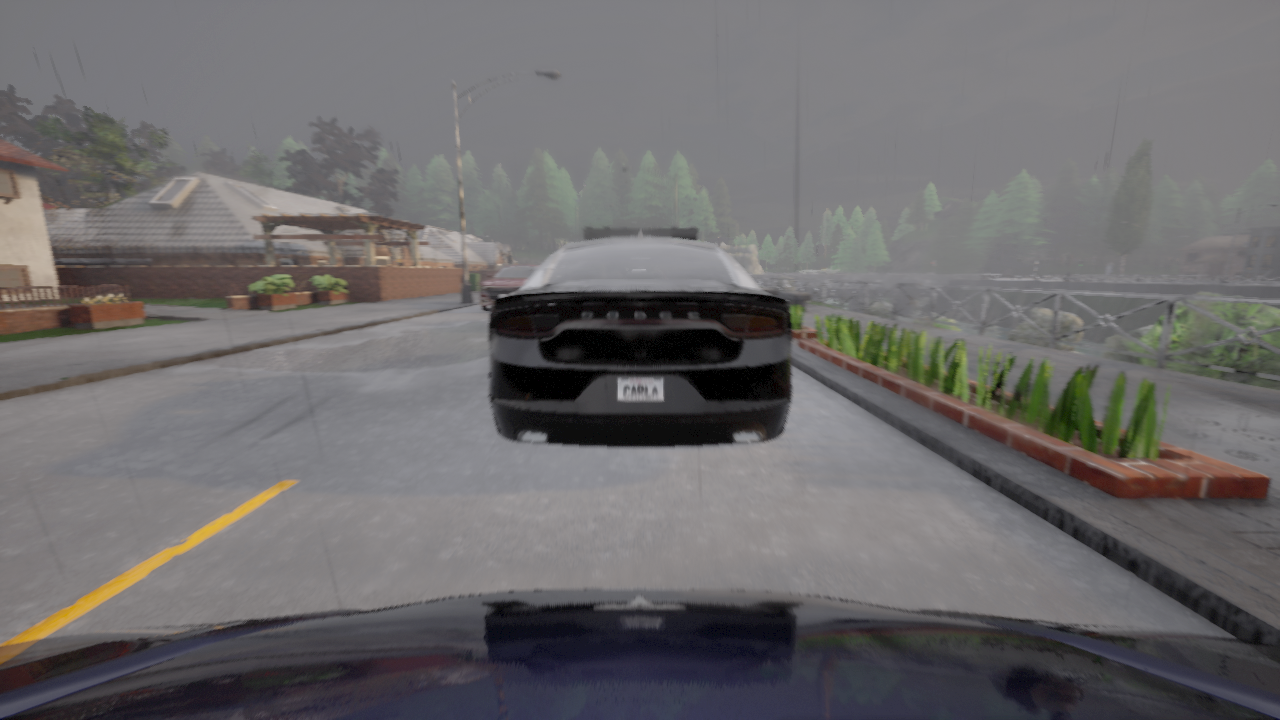cyclist: (0, 588, 1279, 719), (489, 226, 791, 446), (479, 263, 540, 310)
